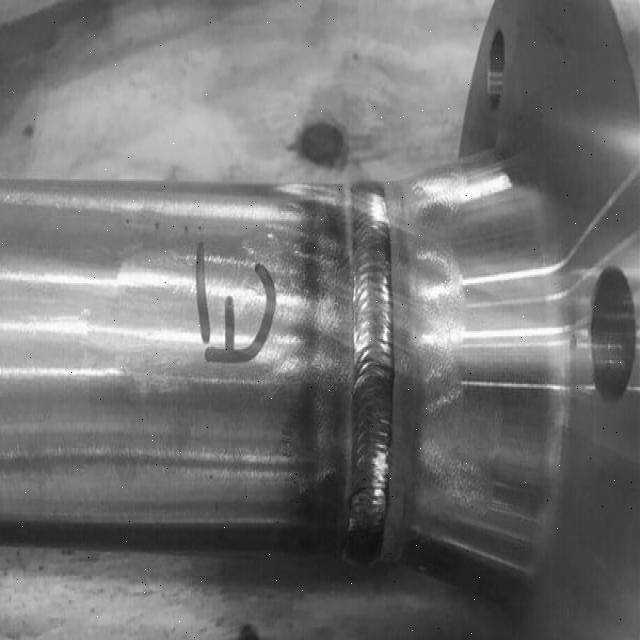Good Welding: (345, 188, 394, 561)
